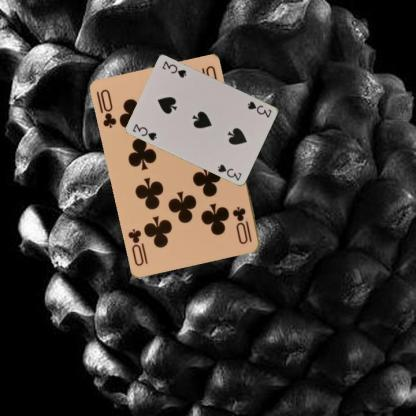10c: (93, 87, 118, 130), (230, 204, 254, 246)
3s: (130, 120, 158, 142), (245, 99, 273, 119)
